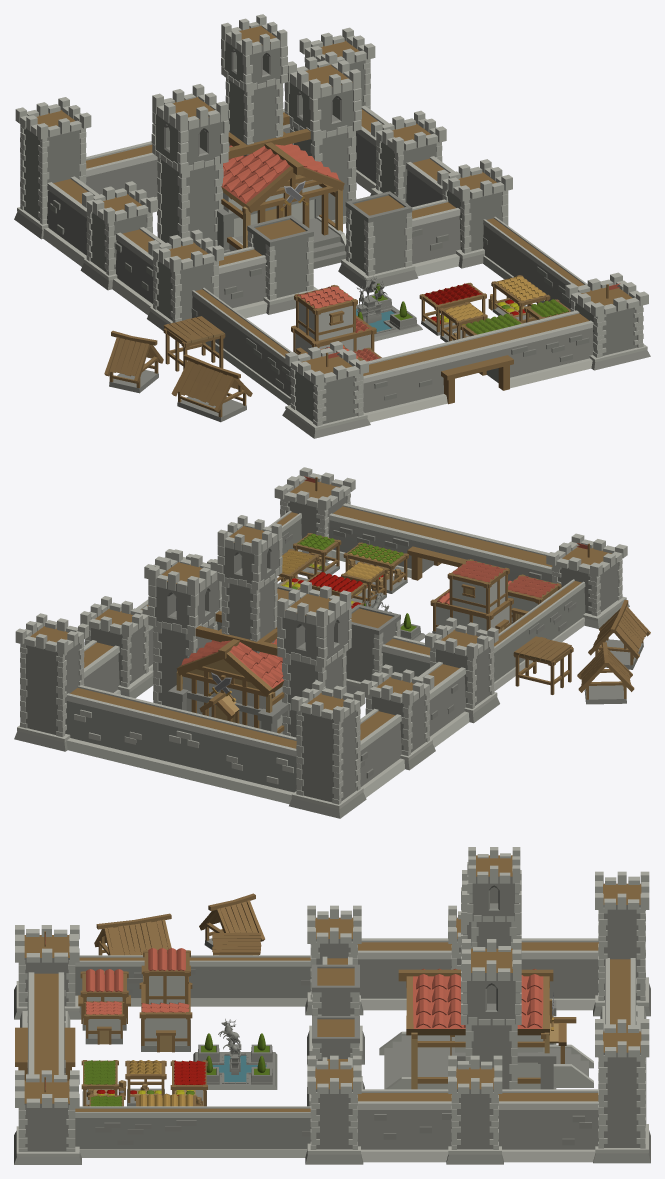
Rendered from civ-MC-II.glb.
3 renders of one model, top to bottom at view 1: azimuth 30°, elevation 25°; view 2: azimuth 150°, elevation 25°; view 3: azimuth 270°, elevation 25°, orthographic. The views are drawn at different scales.
Parts seen in each view (by area): view 1: WonderWalls_SecondAge, Barracks_SecondAge_Level3, WallTowers_Door_SecondAge.001, Market_SecondAge_Level3, Wall_SecondAge.001, Houses_SecondAge_3_Level3, Wall_SecondAge, Houses_FirstAge_1_Level2, Houses_FirstAge_1_Level1, TownCenter_SecondAge_Level3, Houses_FirstAge_3_Level1; view 2: WonderWalls_SecondAge, Barracks_SecondAge_Level3, WallTowers_Door_SecondAge.001, Market_SecondAge_Level3, Houses_SecondAge_3_Level3, Wall_SecondAge.001, Houses_FirstAge_1_Level1, Houses_FirstAge_1_Level2, Houses_FirstAge_3_Level1, Wall_SecondAge, TownCenter_SecondAge_Level3; view 3: WonderWalls_SecondAge, Barracks_SecondAge_Level3, WallTowers_Door_SecondAge.001, Wall_SecondAge, Houses_SecondAge_3_Level3, Wall_SecondAge.001, Market_SecondAge_Level3, TownCenter_SecondAge_Level3, Houses_FirstAge_1_Level2, Houses_FirstAge_1_Level1, Houses_FirstAge_3_Level1.
Boxes of the visible parts, box(x1,y1,x2,y2) form: WonderWalls_SecondAge: box(14, 27, 512, 330); Barracks_SecondAge_Level3: box(151, 14, 361, 268); WallTowers_Door_SecondAge.001: box(282, 272, 650, 438); Market_SecondAge_Level3: box(419, 275, 570, 342); Wall_SecondAge.001: box(191, 287, 291, 405); Houses_SecondAge_3_Level3: box(291, 285, 381, 361); Wall_SecondAge: box(483, 216, 587, 309); Houses_FirstAge_1_Level2: box(171, 354, 252, 422); Houses_FirstAge_1_Level1: box(104, 330, 163, 393); TownCenter_SecondAge_Level3: box(356, 275, 422, 341); Houses_FirstAge_3_Level1: box(163, 316, 225, 371); WonderWalls_SecondAge: box(14, 549, 499, 818); Barracks_SecondAge_Level3: box(147, 515, 351, 737); WallTowers_Door_SecondAge.001: box(274, 467, 629, 628); Market_SecondAge_Level3: box(277, 533, 408, 608); Houses_SecondAge_3_Level3: box(430, 559, 561, 633); Wall_SecondAge.001: box(494, 579, 585, 691); Houses_FirstAge_1_Level1: box(577, 642, 634, 704); Houses_FirstAge_1_Level2: box(588, 600, 650, 669); Houses_FirstAge_3_Level1: box(513, 636, 573, 694); Wall_SecondAge: box(268, 510, 301, 554); TownCenter_SecondAge_Level3: box(362, 590, 424, 641); WonderWalls_SecondAge: box(305, 871, 650, 1164); Barracks_SecondAge_Level3: box(379, 847, 593, 1089); WallTowers_Door_SecondAge.001: box(14, 925, 81, 1164); Wall_SecondAge: box(75, 1106, 311, 1157); Houses_SecondAge_3_Level3: box(78, 948, 192, 1052); Wall_SecondAge.001: box(75, 955, 311, 1006); Market_SecondAge_Level3: box(81, 1060, 207, 1106); TownCenter_SecondAge_Level3: box(193, 1018, 277, 1089); Houses_FirstAge_1_Level2: box(94, 913, 171, 955); Houses_FirstAge_1_Level1: box(199, 893, 264, 949); Houses_FirstAge_3_Level1: box(212, 932, 261, 955).
Size of the model in its own units: 6.31 by 2.83 by 7.36.
